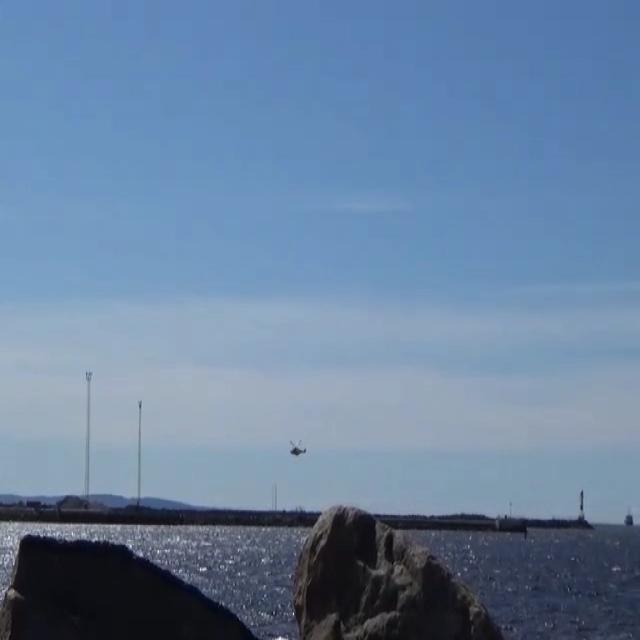Helicopter: (277, 428, 318, 469)
